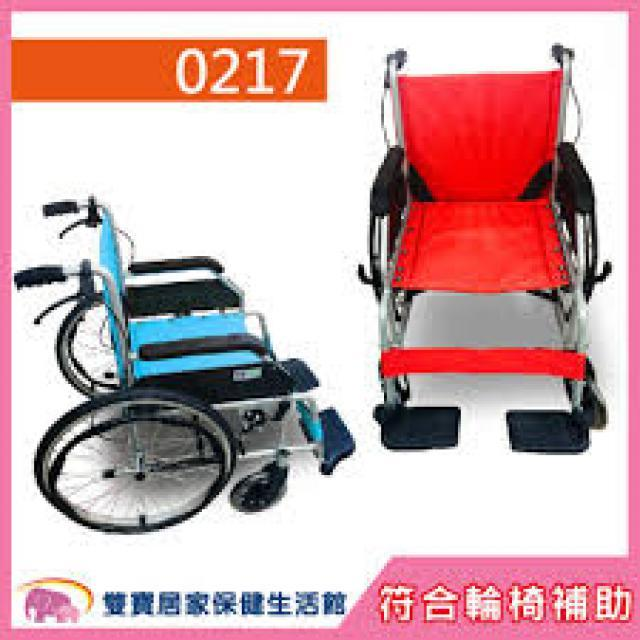wheelchair: (6, 179, 356, 546), (366, 31, 612, 475)
